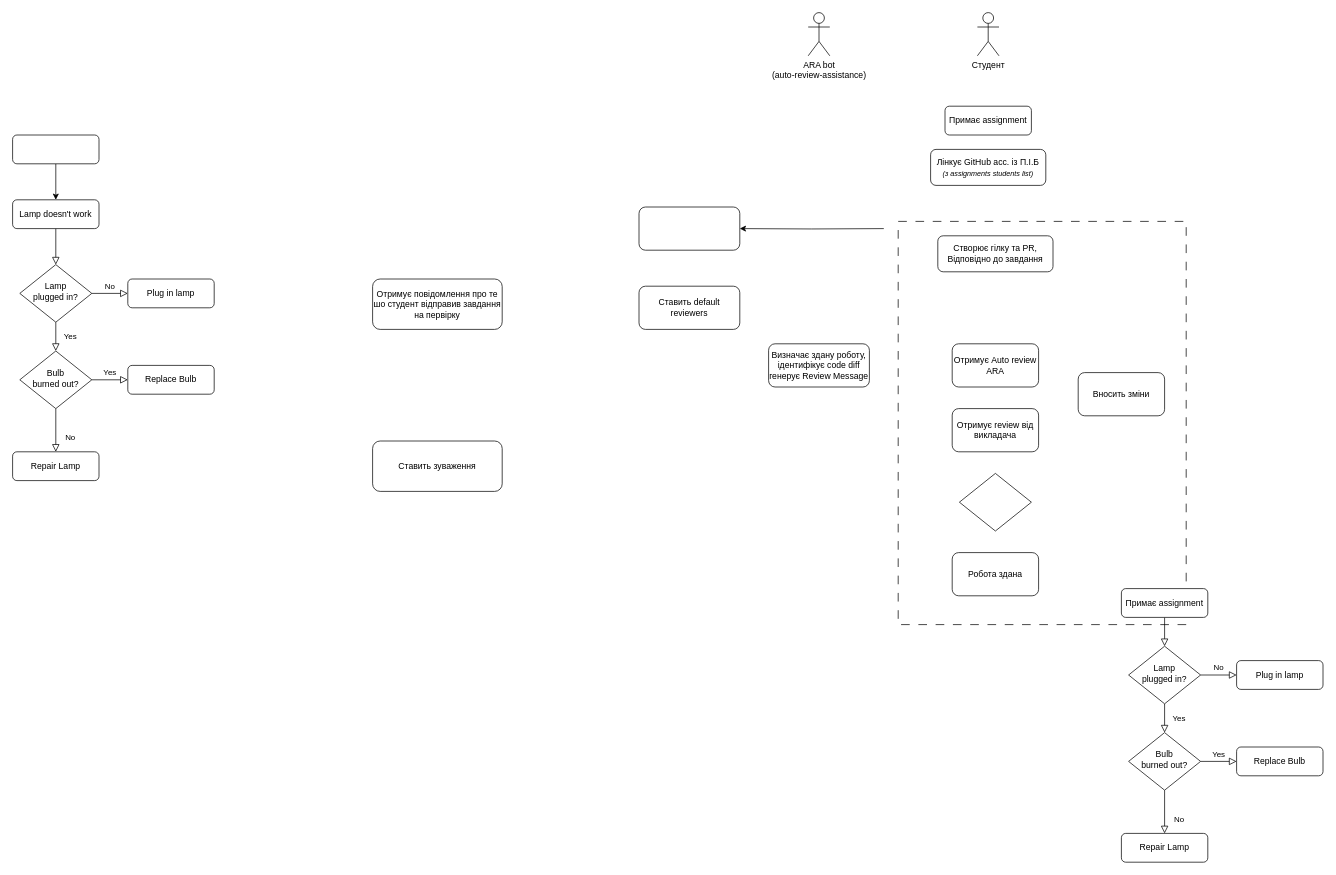
Some shapes in this 1336 by 875 pixel diagram are drawn without their labels. Each missing label, with the centre of its shape:
"Отрмав Approve" belongs at (x=995, y=502).
"Створюється repo під student's assignment" belongs at (x=689, y=228).
"Стоворую" belongs at (x=55, y=149).
